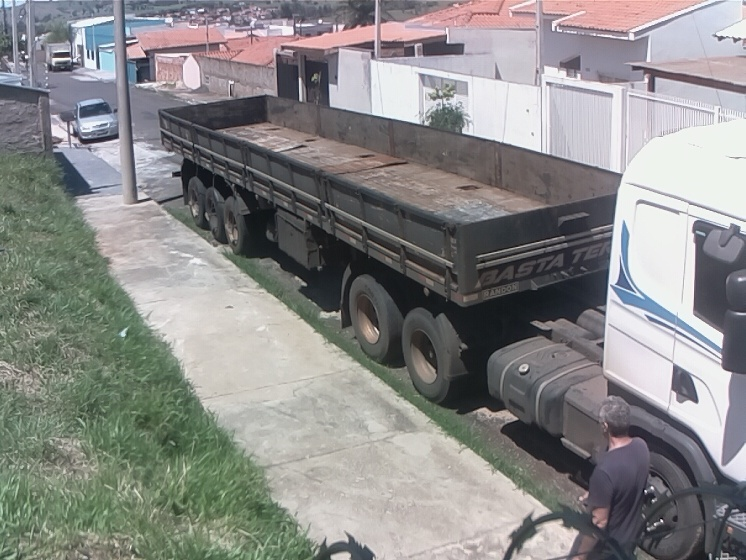person: (574, 391, 650, 560)
